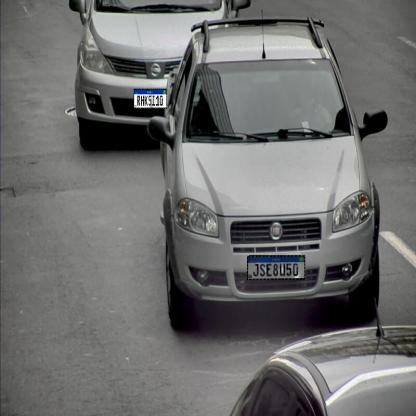PlacaM: (247, 255, 305, 280), (134, 89, 167, 109)
